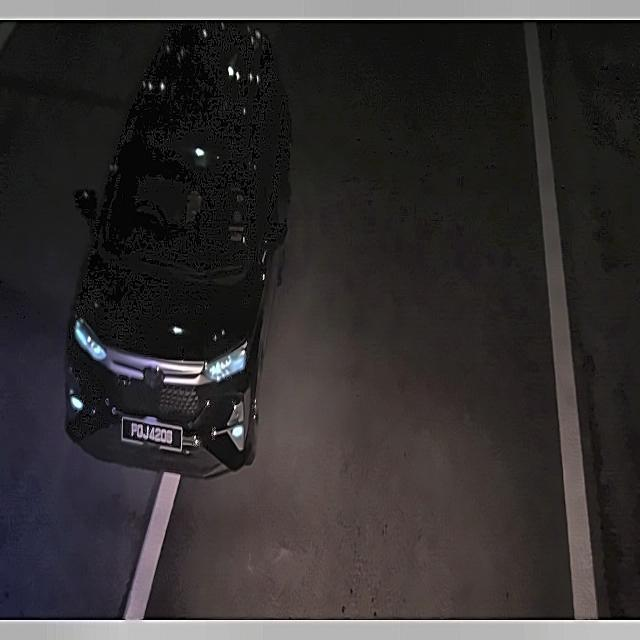car: (116, 406, 187, 458)
